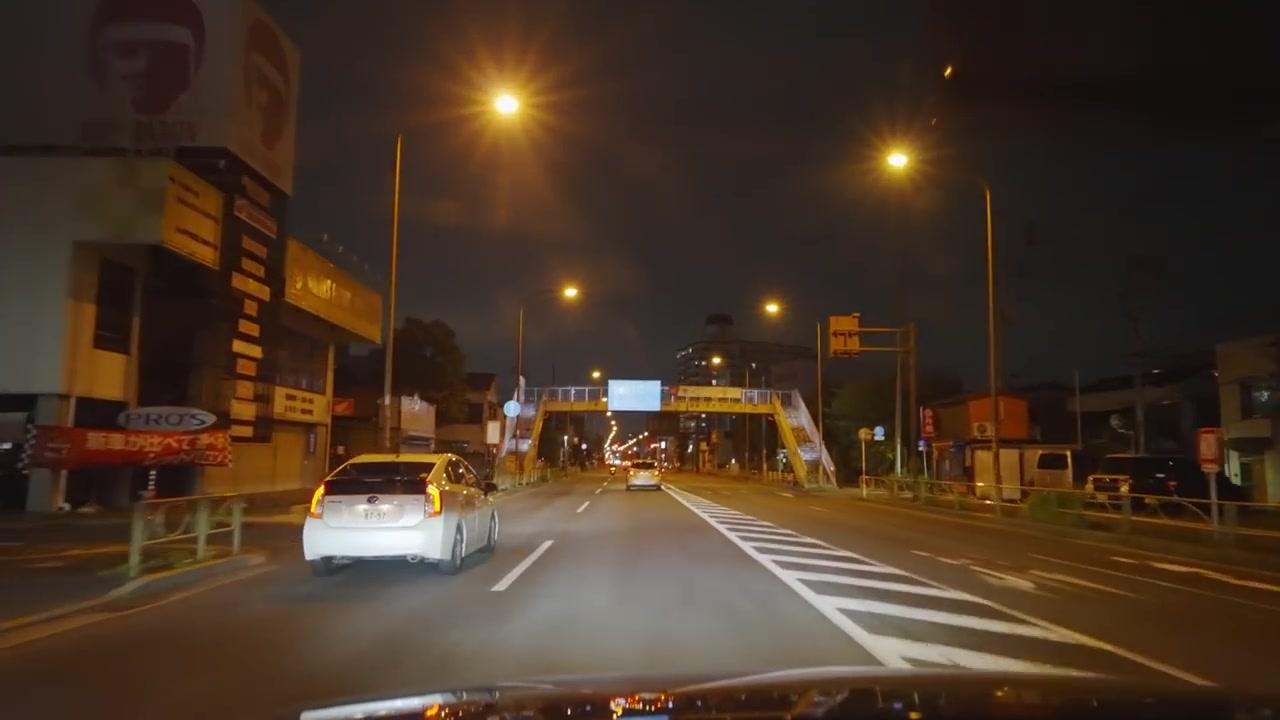car: (301, 452, 500, 577), (625, 464, 663, 492)
traffic light: (830, 313, 861, 356), (874, 425, 885, 439)
